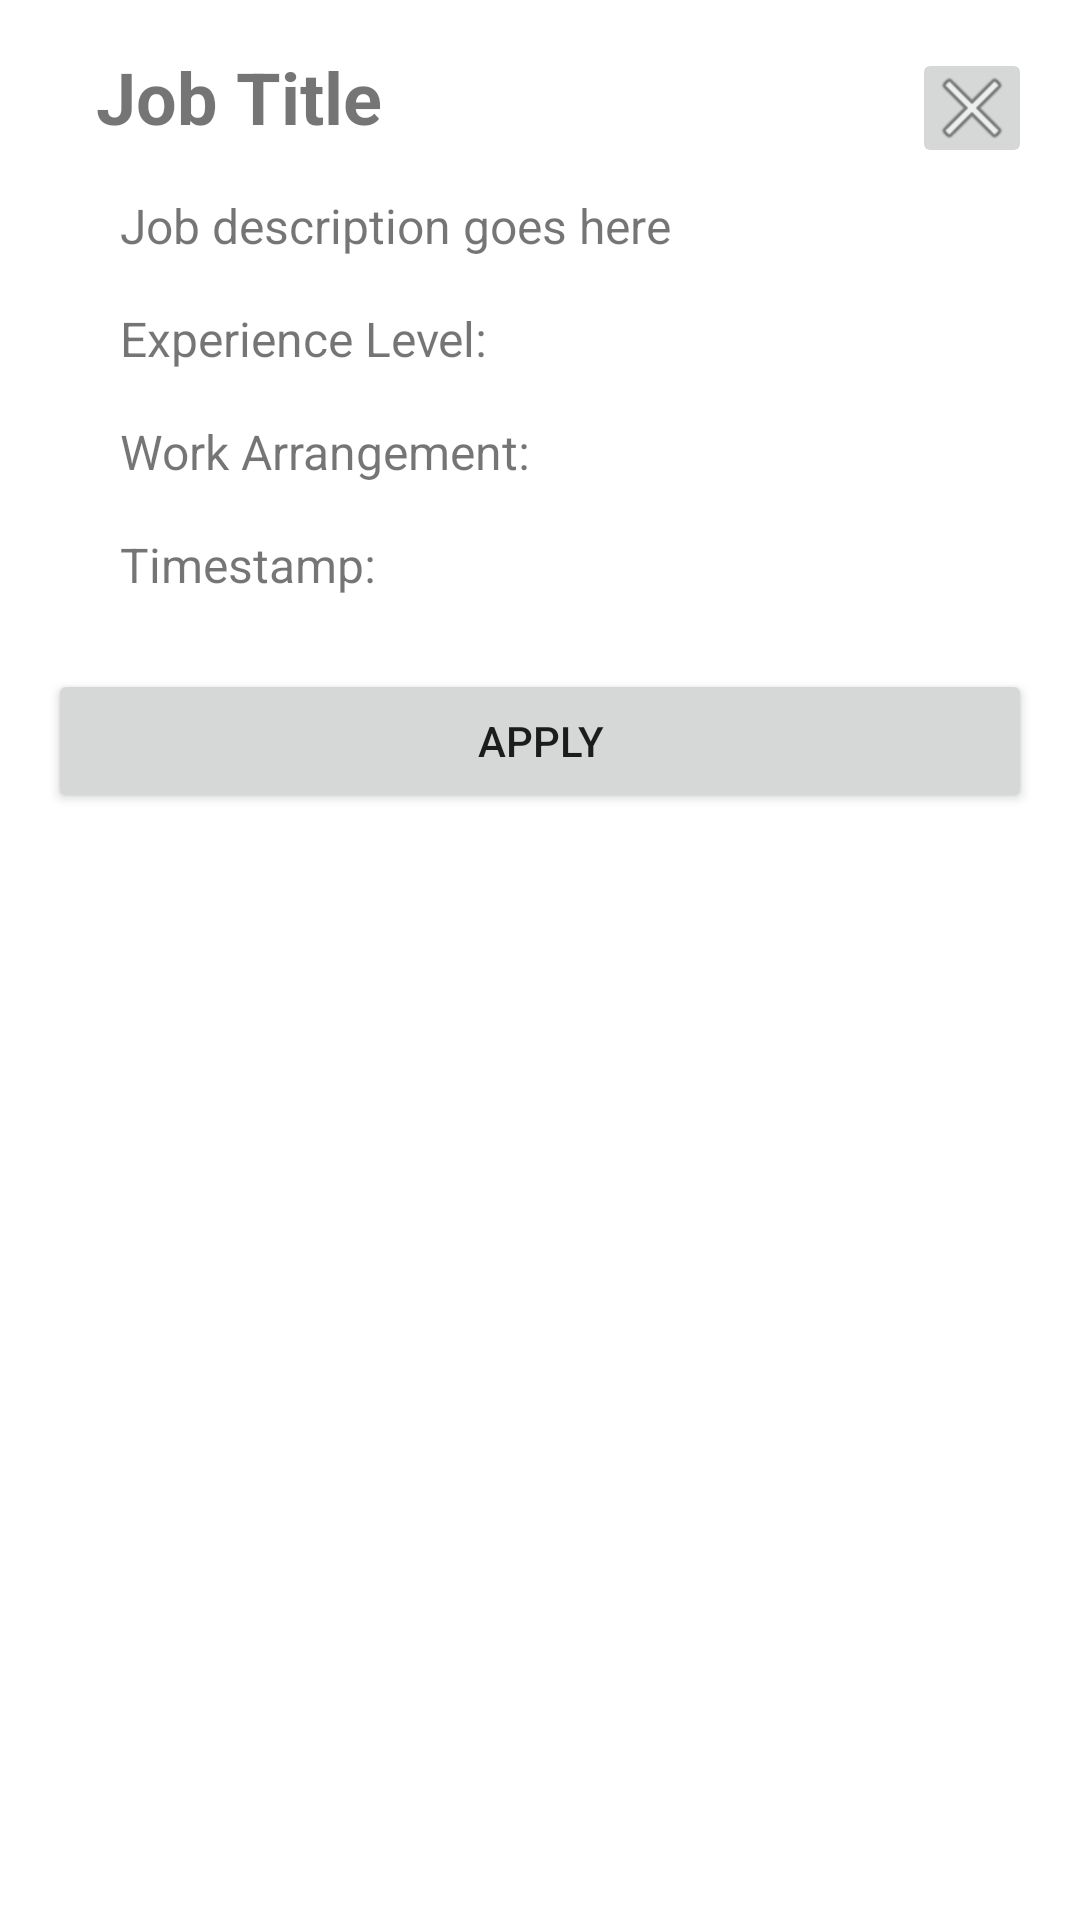

Screen size 1080w x 1920h. Icon name, then its center in pixels as (x,y):
Close: (972,108)
